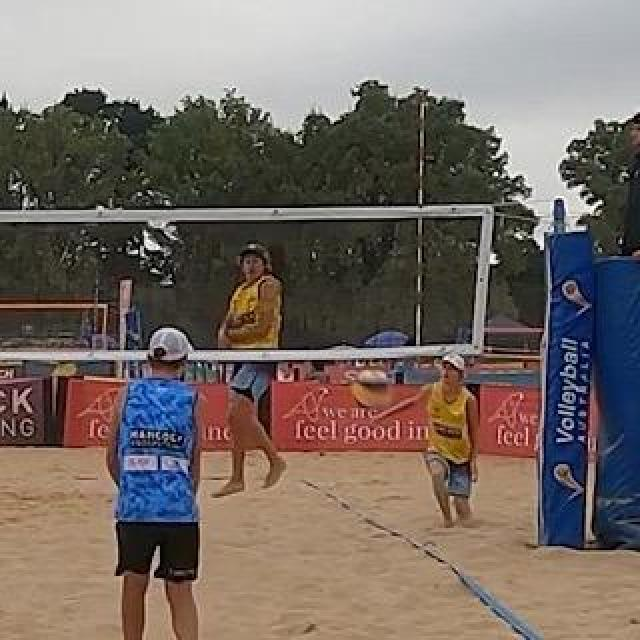volleyball: (351, 369, 391, 407)
